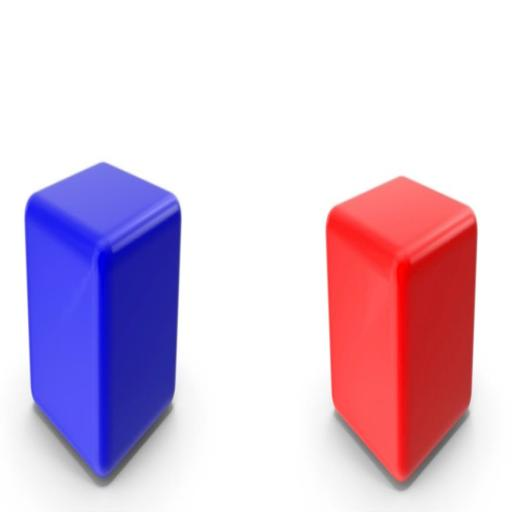blue_block: (0, 48, 217, 512)
red_block: (268, 46, 512, 512)
